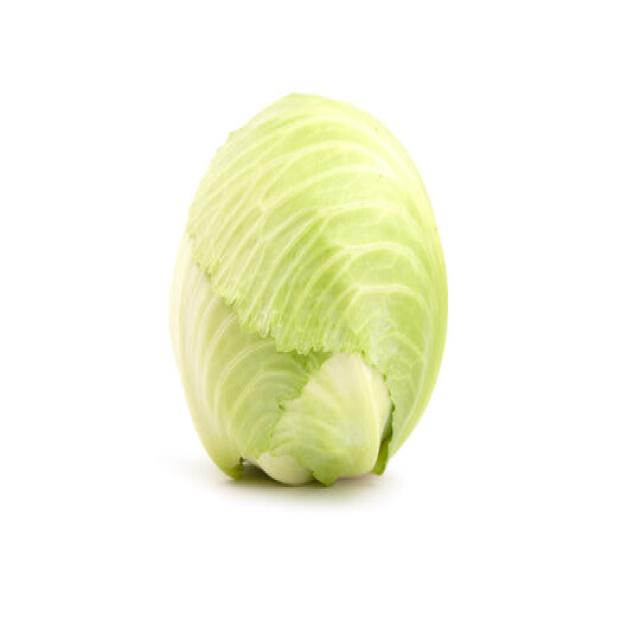Cabbage: (167, 89, 448, 487)
